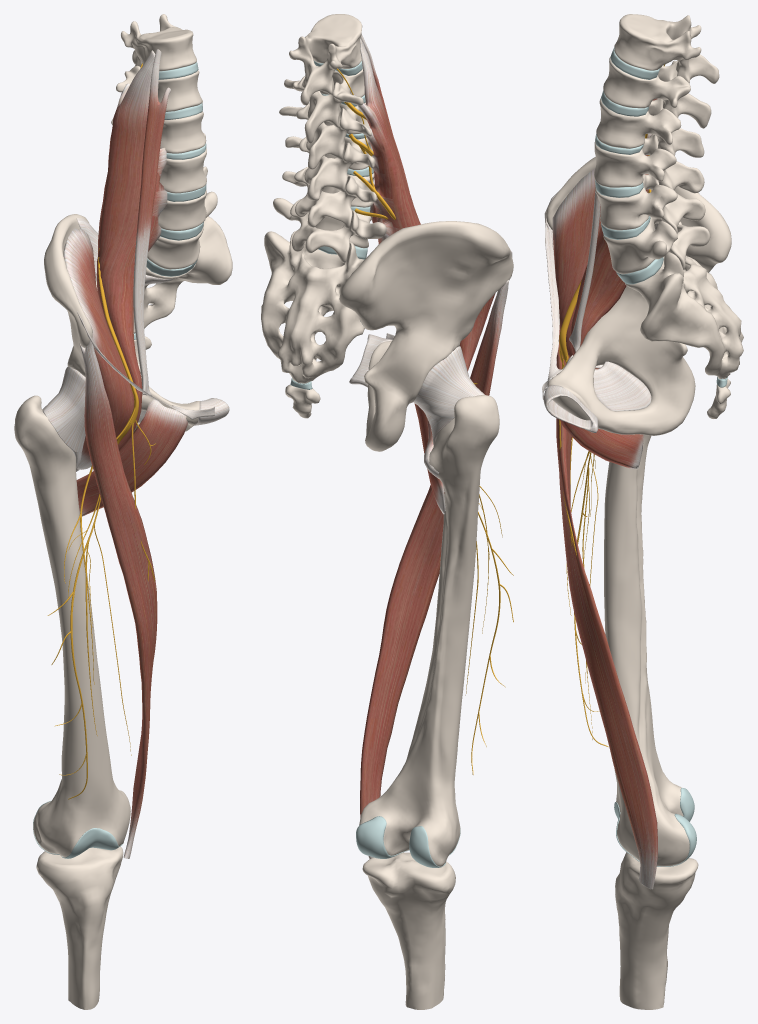
The model's file is ant-thigh-hip-flexors.glb.
The picture shows the model from 3 angles, left to right: view 1: azimuth 30°, elevation 25°; view 2: azimuth 150°, elevation 25°; view 3: azimuth 270°, elevation 25°; orthographic projection. The views are drawn at different scales.
Visible parts, largest first — view 1: Femur.r, Psoas major.r, Sartorius muscle.r, Tibia.r, Iliacus muscle.r, Psoas minor.r, Pectineus muscle.r, Hip bone.r, Sacrum, Femoral nerve, muscular branches.r, Thoracic vertebra (T12), Hip joint capsule.r (+10 smaller); view 2: Femur.r, Hip bone.r, Sartorius muscle.r, Sacrum, Tibia.r, Psoas major.r, Thoracic vertebra (T12), Lumbar vertebra (L5), Hip joint capsule.r, Lumbar vertebra (L4), Lumbar vertebra (L3), Lumbar vertebra (L1) (+8 smaller); view 3: Femur.r, Hip bone.r, Sartorius muscle.r, Tibia.r, Sacrum, Thoracic vertebra (T12), Iliacus muscle.r, Lumbar vertebra (L3), Lumbar vertebra (L2), Lumbar vertebra (L1), Lumbar vertebra (L4), Lumbar vertebra (L5) (+13 smaller).
Part boxes in pixels (box(x1,y1,x2,y2)): Femur.r: box(14, 395, 130, 857); Psoas major.r: box(76, 50, 167, 471); Sartorius muscle.r: box(79, 340, 157, 858); Tibia.r: box(36, 846, 123, 1009); Iliacus muscle.r: box(63, 228, 134, 469); Psoas minor.r: box(133, 49, 170, 395); Pectineus muscle.r: box(76, 399, 187, 516); Hip bone.r: box(44, 214, 199, 432); Sacrum: box(133, 216, 232, 333); Femoral nerve, muscular branches.r: box(47, 407, 155, 799); Thoracic vertebra (T12): box(121, 14, 196, 71); Hip joint capsule.r: box(42, 366, 85, 470); Femur.r: box(359, 395, 499, 866); Hip bone.r: box(339, 221, 513, 451); Sartorius muscle.r: box(360, 280, 508, 858); Sacrum: box(261, 230, 364, 383); Tibia.r: box(362, 852, 455, 1009); Psoas major.r: box(353, 38, 438, 478); Thoracic vertebra (T12): box(289, 14, 362, 105); Lumbar vertebra (L5): box(273, 198, 386, 262); Hip joint capsule.r: box(413, 346, 484, 445); Lumbar vertebra (L4): box(282, 167, 376, 228); Lumbar vertebra (L3): box(285, 136, 374, 200); Lumbar vertebra (L1): box(284, 69, 364, 143); Femur.r: box(604, 435, 689, 866); Hip bone.r: box(546, 156, 731, 435); Sartorius muscle.r: box(546, 222, 657, 889); Tibia.r: box(615, 852, 698, 1009); Sacrum: box(625, 221, 743, 378); Thoracic vertebra (T12): box(614, 14, 719, 83); Iliacus muscle.r: box(552, 168, 652, 369); Lumbar vertebra (L3): box(594, 134, 704, 193); Lumbar vertebra (L2): box(596, 98, 704, 157); Lumbar vertebra (L1): box(603, 57, 711, 128); Lumbar vertebra (L4): box(595, 174, 705, 233); Lumbar vertebra (L5): box(603, 217, 710, 274).
Bounding box in the file's own units: 0.21 × 0.8652 × 0.1541.
18 materials, 4 textured.
